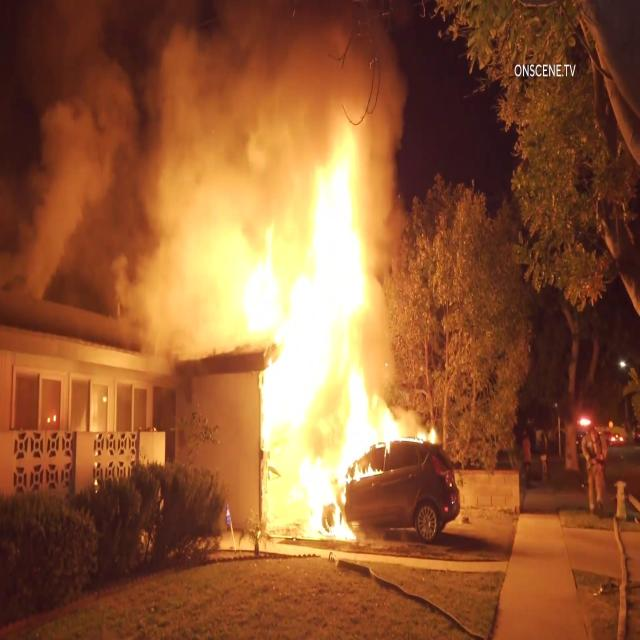fire: (295, 90, 389, 433), (232, 205, 387, 345), (274, 353, 352, 537), (378, 393, 453, 446)
smoke: (1, 2, 219, 326), (0, 0, 291, 197), (0, 0, 291, 114)
